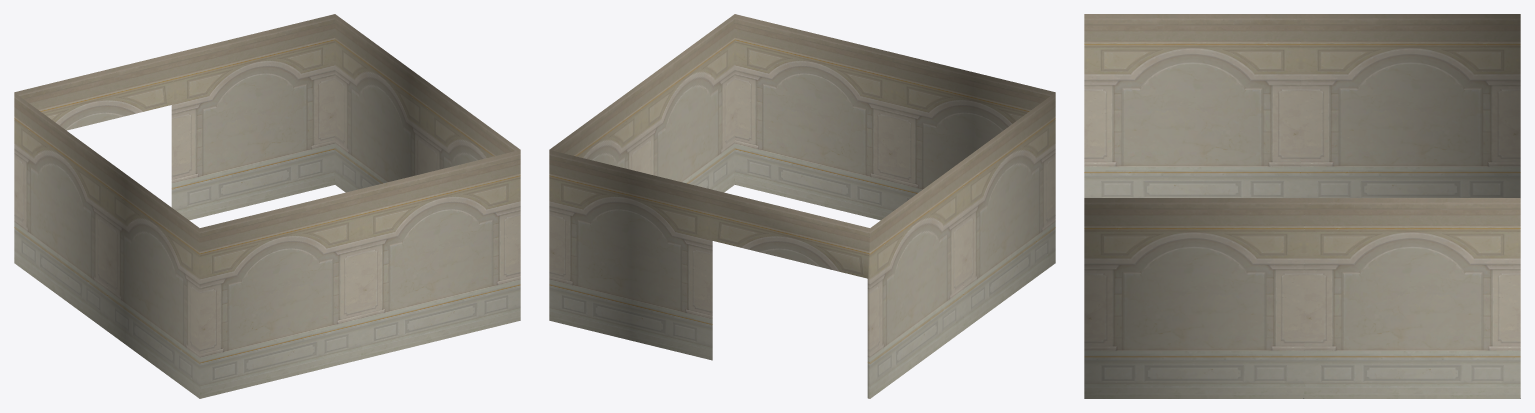
The model's file is Homeworld_Interior_Fd_Room_L_Filling_01_Vo.fbx.
The picture shows the model from 3 angles, left to right: view 1: azimuth 30°, elevation 25°; view 2: azimuth 150°, elevation 25°; view 3: azimuth 270°, elevation 25°; orthographic projection. The views are drawn at different scales.
Parts seen in each view (by area): view 1: Homeworld_Interior_Fd_Room_L_Filling_01_Vo; view 2: Homeworld_Interior_Fd_Room_L_Filling_01_Vo; view 3: Homeworld_Interior_Fd_Room_L_Filling_01_Vo.
Part boxes in pixels (x1,y1,x2,y2): Homeworld_Interior_Fd_Room_L_Filling_01_Vo: (14, 14, 520, 398); Homeworld_Interior_Fd_Room_L_Filling_01_Vo: (549, 14, 1055, 398); Homeworld_Interior_Fd_Room_L_Filling_01_Vo: (1084, 14, 1520, 398).
Size of the model in its own units: 9.79 by 4.98 by 9.81.
